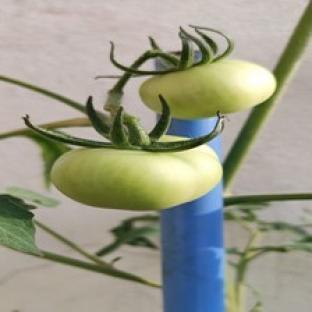Tomato: (52, 145, 222, 210), (140, 59, 275, 118)
